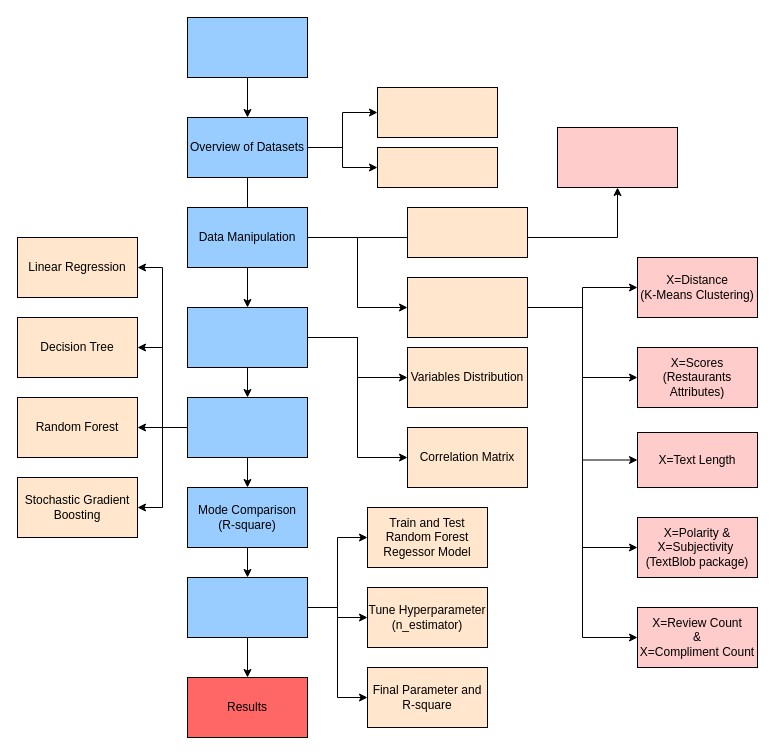
This 775x755 diagram has some shape labels left out. Here are the shapes that lost their labels. From the top down, the box of each, then its label:
(186, 16, 308, 78): Data Cleaning
(376, 86, 498, 138): Heatmap and Data Visualization
(376, 146, 498, 188): Scatter Text Map
(556, 126, 678, 188): Y=Star Rating
(406, 206, 528, 258): Independent Variable
(406, 276, 528, 338): Dependent Variables
(186, 306, 308, 368): Data Pre-processing
(186, 396, 308, 458): Model Selection
(186, 576, 308, 638): Final Model and Analysis
